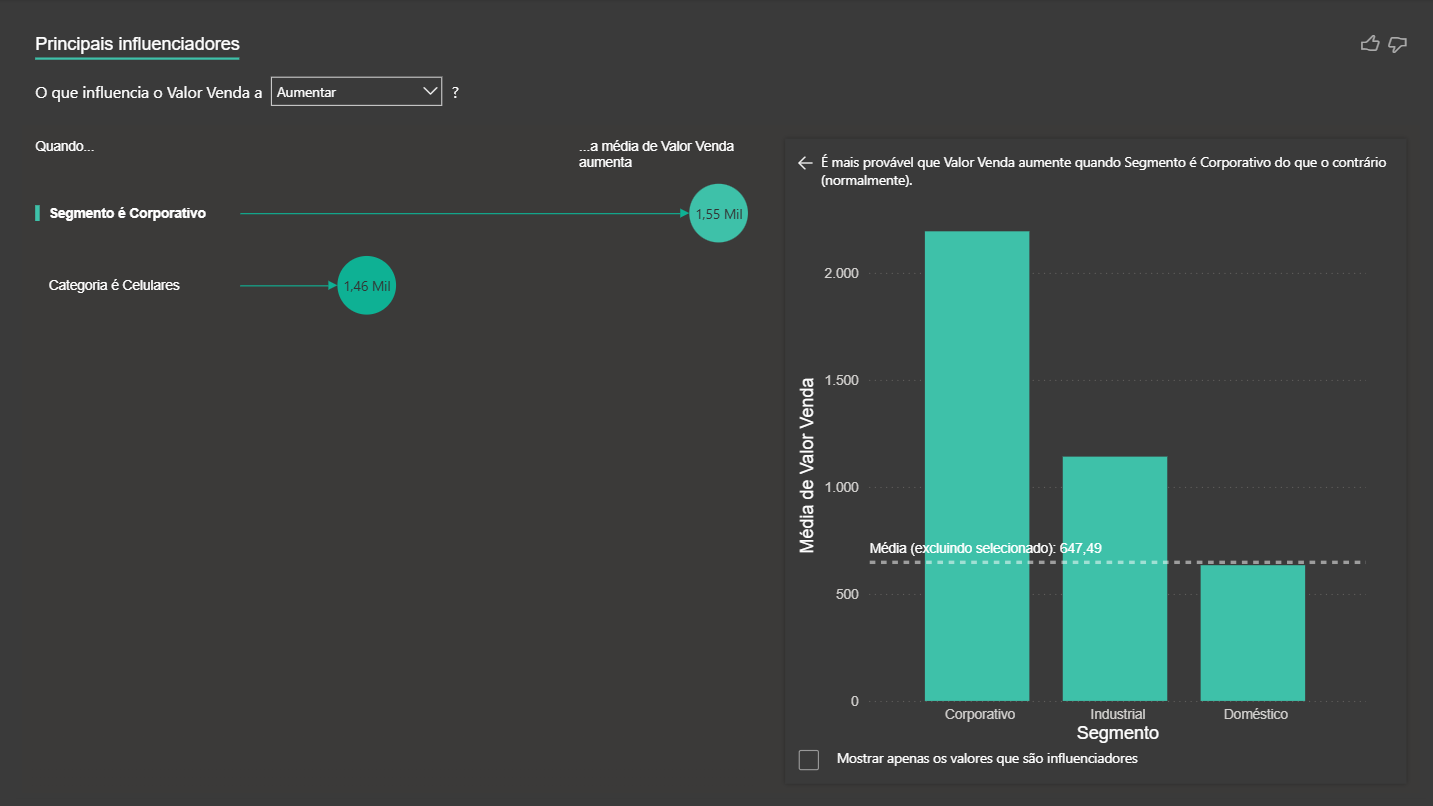

The page's visual inventory and layout, read from the dashboard file:
{"tool":"powerbi","page":{"name":"Principais Influenciadores de Vendas","canvas":[1280,720],"ordinal":2},"visuals":[{"type":"keyDriversVisual","fields":{"Target":["Vendas.ValorVenda"],"ExplainBy":["Vendas.Segmento","Vendas.Categoria"]},"box":[19.5,16.5,1249.8,691.6],"z":0}]}

Visuals, with their boxes in screenshot pixels (x1, y1, x2, y2), scaled from the page's 1280x720 canvas onto the 1433x806 screenshot:
keyDriversVisual - Vendas.ValorVenda x Vendas.Segmento: detection(22, 18, 1421, 793)
